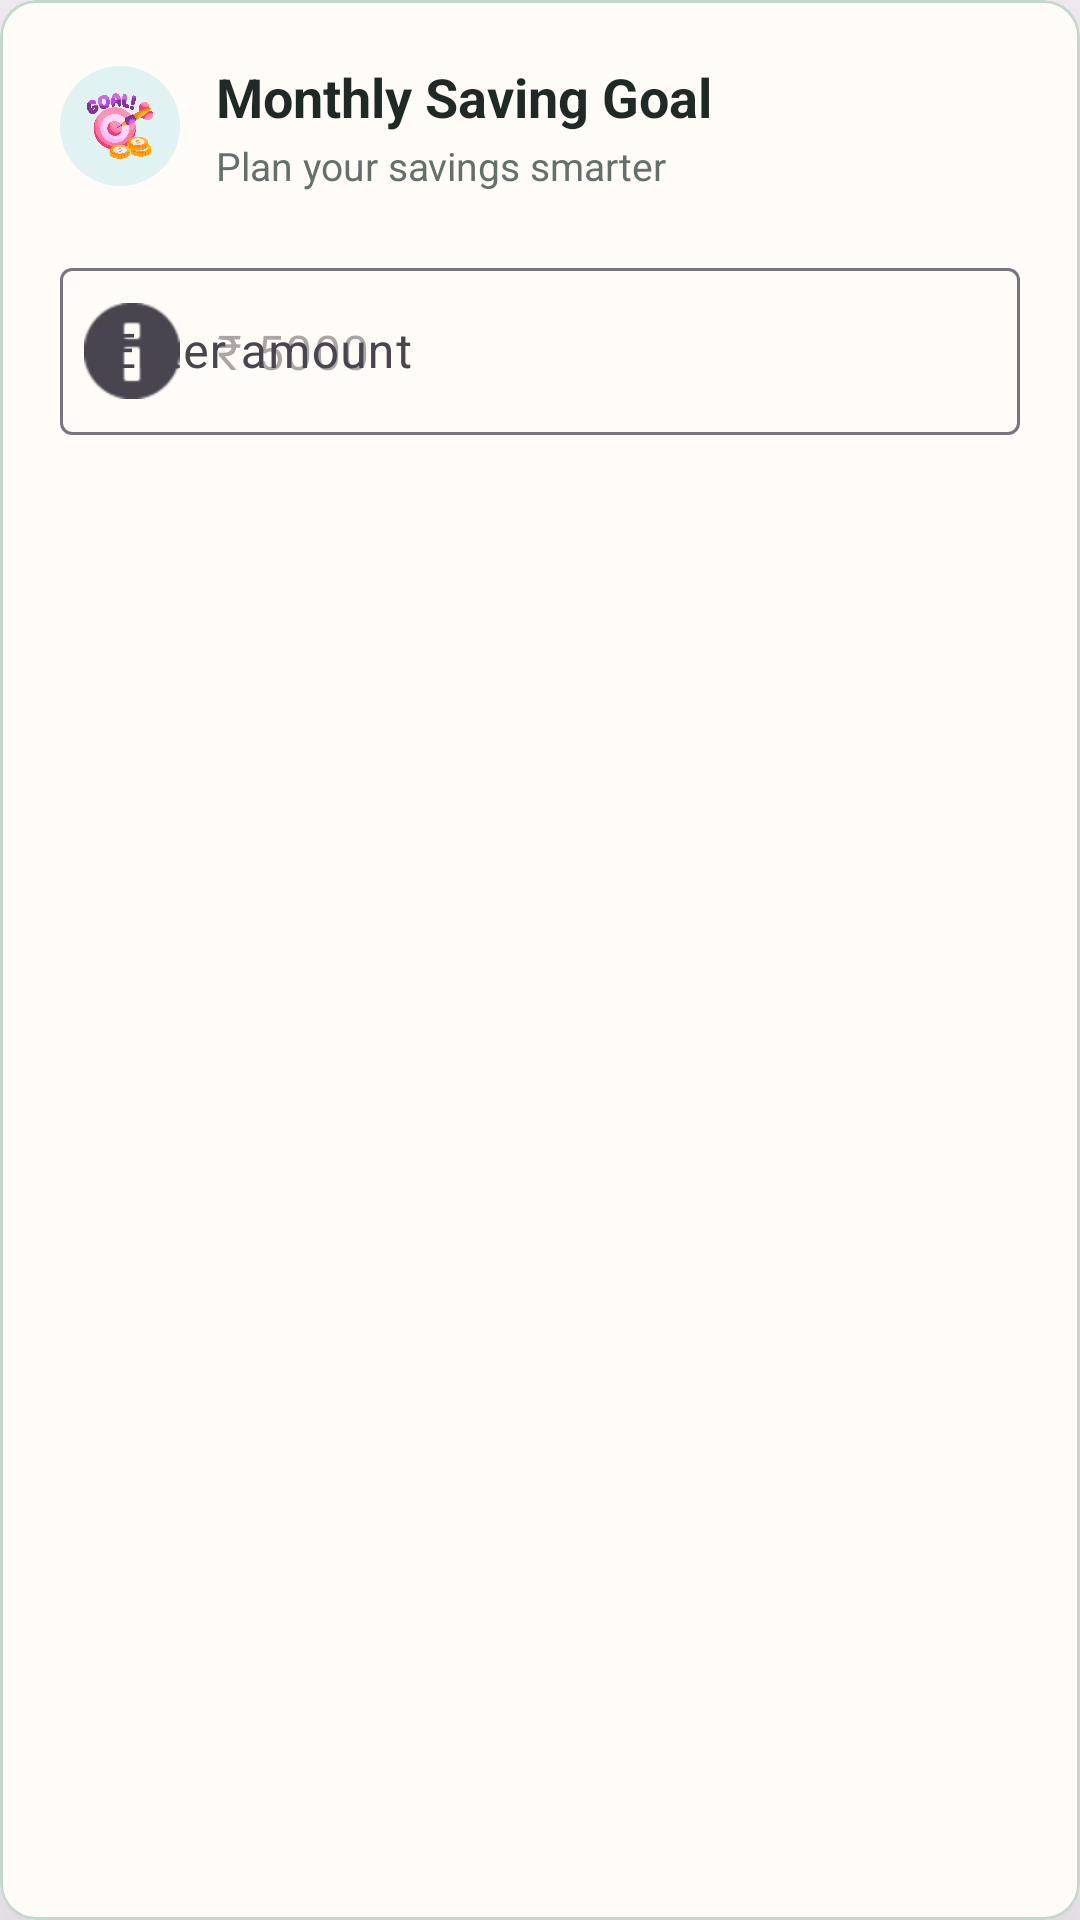

Named icons in this screenshot (1080×1920) and their bounding boxes, {"x1": x1, "y1": y1, "x2": x2, "y2": y2}:
financialgoal: {"x1": 60, "y1": 66, "x2": 180, "y2": 186}
